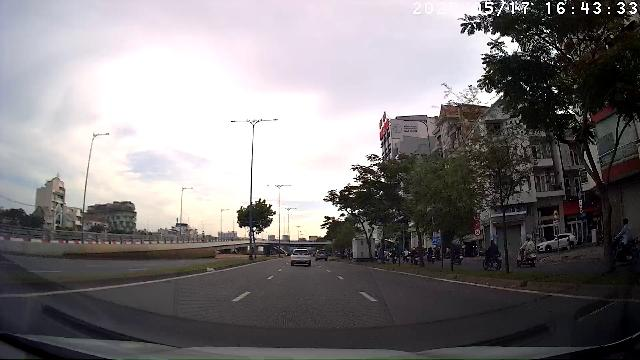127-toc-do-toi-da-50: (474, 228, 482, 236)
